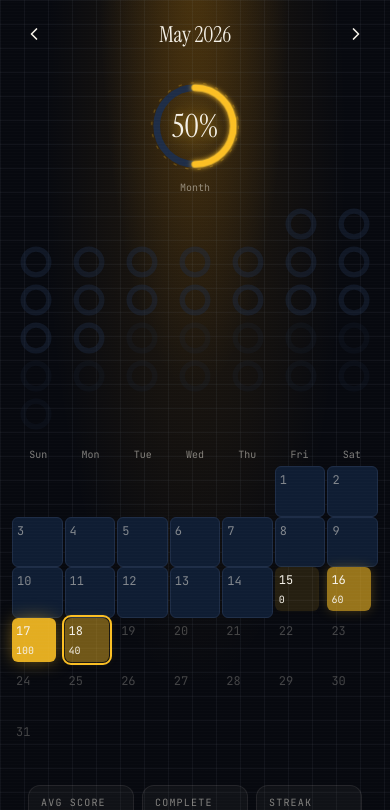
C-m9c-010: MonthView — prev/next month navigation including year boundary › two 'Previous month' clicks from June 2026 reaches April 2026
The image size is (390, 810).
# Go to June
Click the button named "Next month" at x=356, y=34, box x1=334 y1=12 x2=378 y2=56
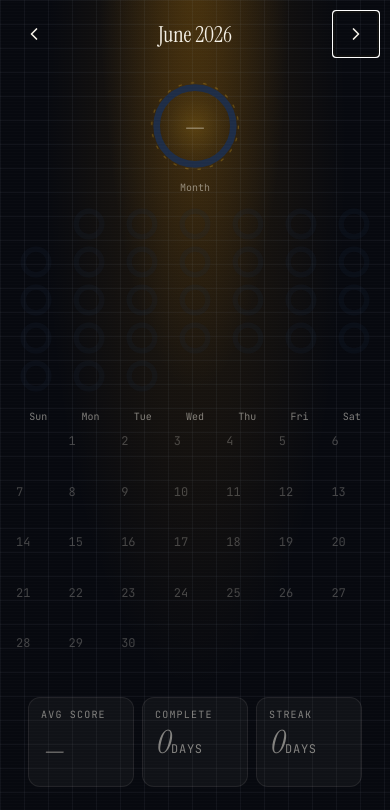
Now the heading "June 2026" is shown, box x1=158 y1=18 x2=232 y2=50
# Back to May
Click the button named "Previous month" at x=34, y=34, box x1=12 y1=12 x2=56 y2=56
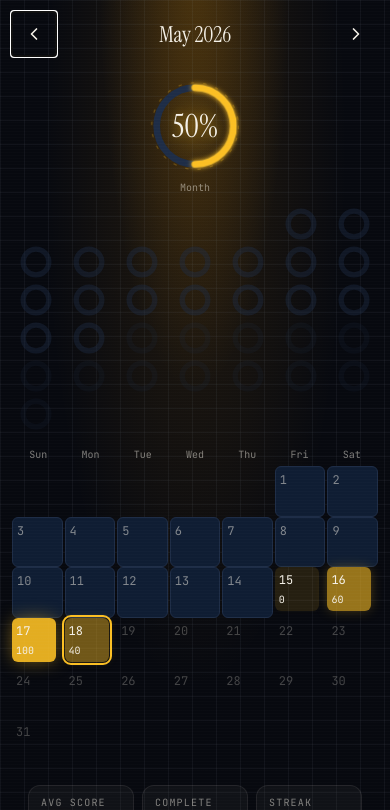
# Back to April
Click the button named "Previous month" at x=34, y=34, box x1=12 y1=12 x2=56 y2=56
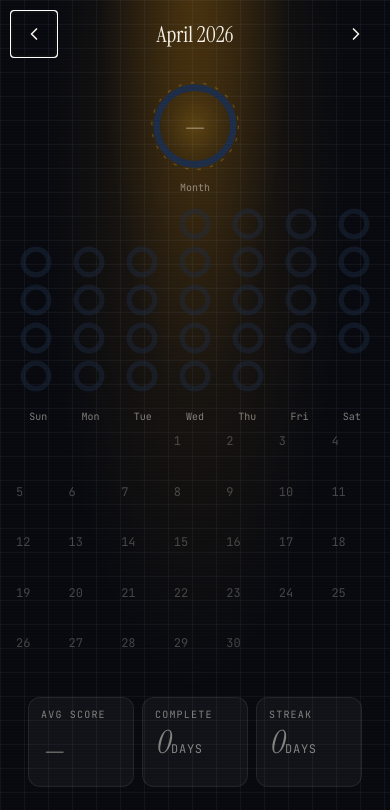
Now the heading "April 2026" is shown, box x1=156 y1=18 x2=234 y2=50
